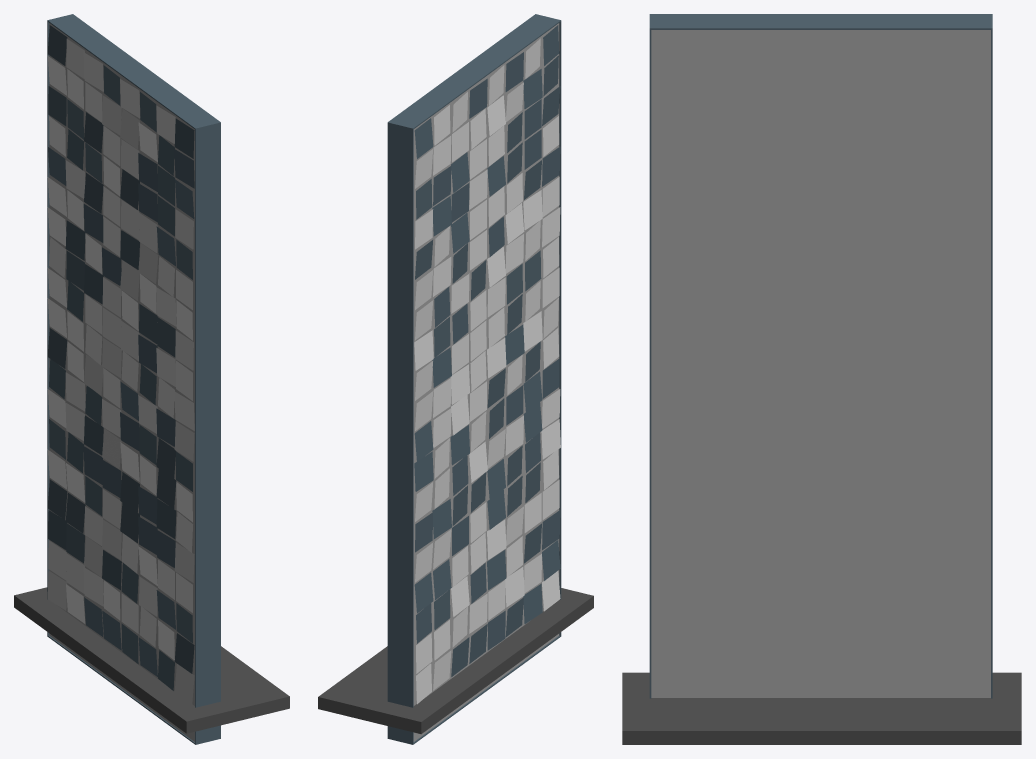
Rendered from zone_3_wall.fbx.
3 renders of one model, left to right at view 1: azimuth 30°, elevation 25°; view 2: azimuth 150°, elevation 25°; view 3: azimuth 270°, elevation 25°, orthographic. The views are drawn at different scales.
Visible parts, largest first — view 1: SM_wall4_zone3, SM_wall2_zone3; view 2: SM_wall4_zone3, SM_wall2_zone3; view 3: SM_wall2_zone3.
Part boxes in pixels (x1,y1,x2,y2): SM_wall4_zone3: (47,25,194,703); SM_wall2_zone3: (14,14,289,744); SM_wall4_zone3: (414,25,560,704); SM_wall2_zone3: (318,14,593,744); SM_wall2_zone3: (622,14,1021,744).
Bounding box in the file's own units: 88.7 × 506 × 257.
